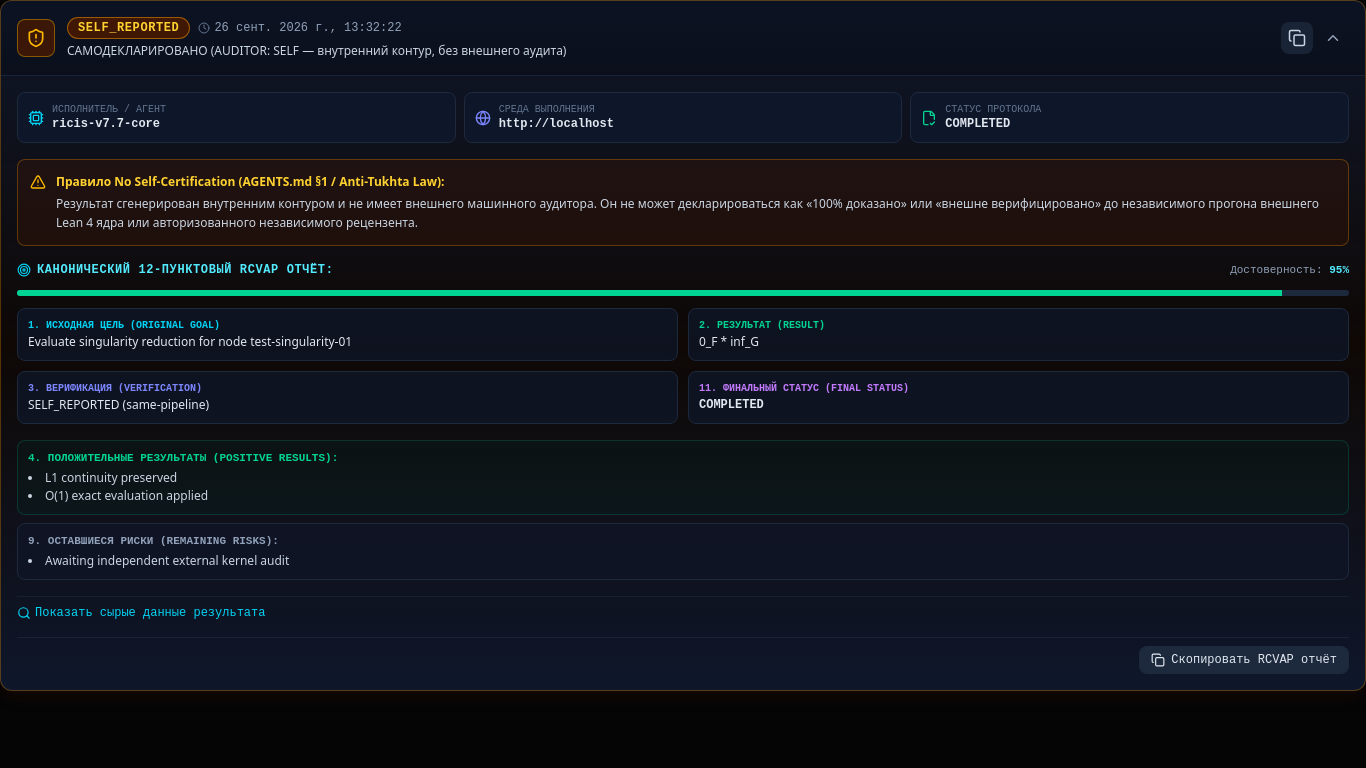
Test: ProvenancePanel Component › toggles raw result inspection panel
Click the button "Показать сырые данные результата" at [141, 613], box [17,605,265,621]
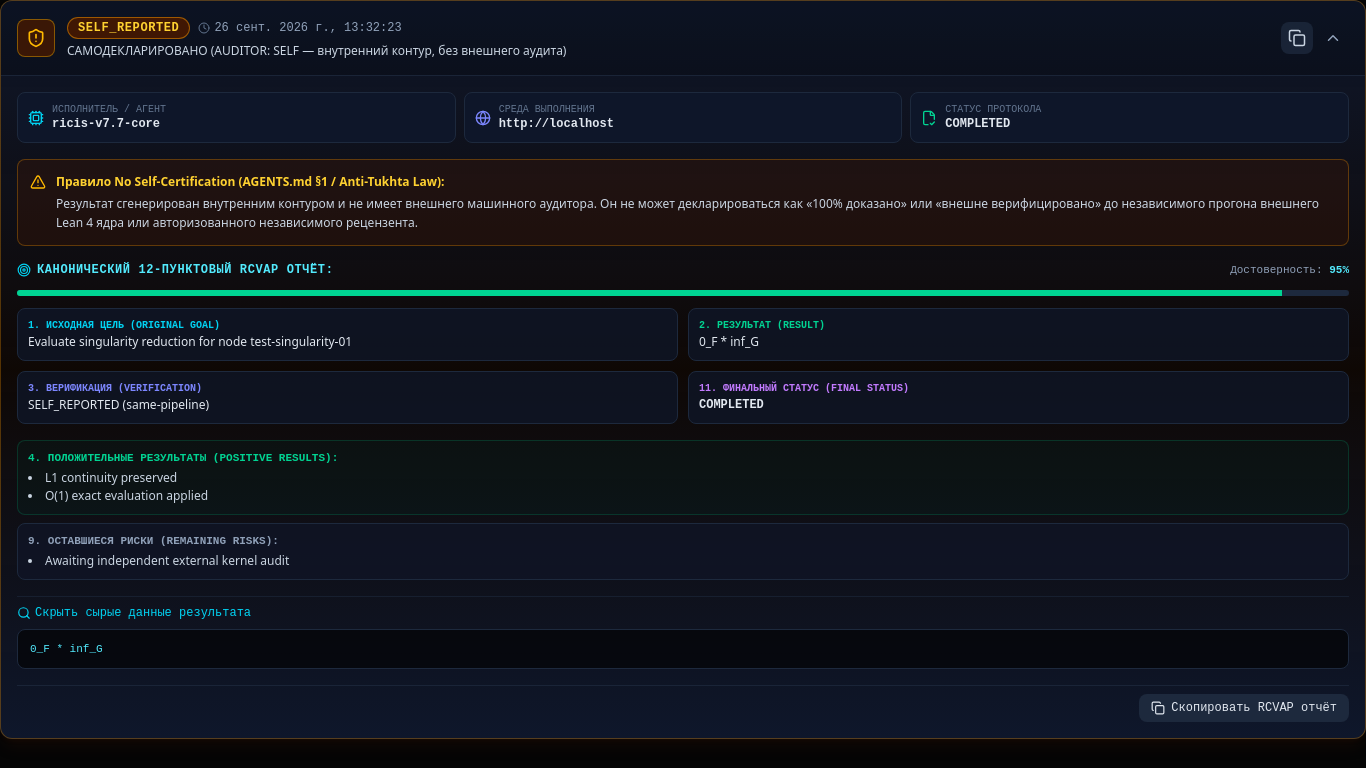
Expected: the 2nd text "0_F * inf_G" is shown, [17,629,1349,670]
